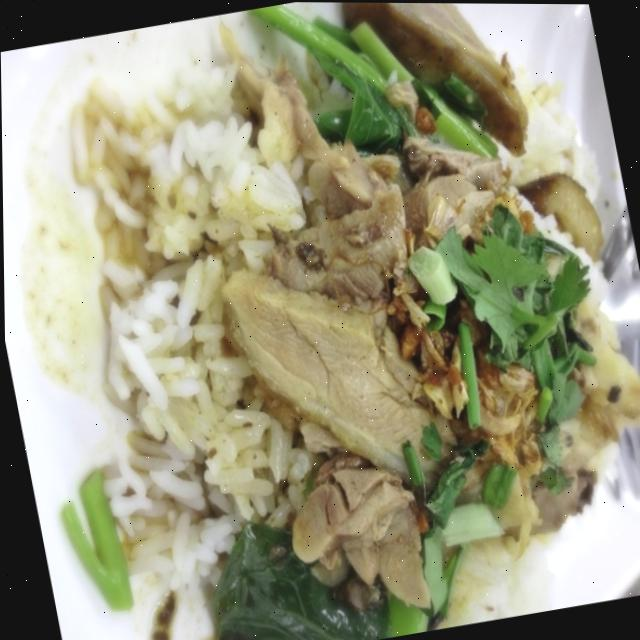米饭主食: (21, 0, 640, 640)
